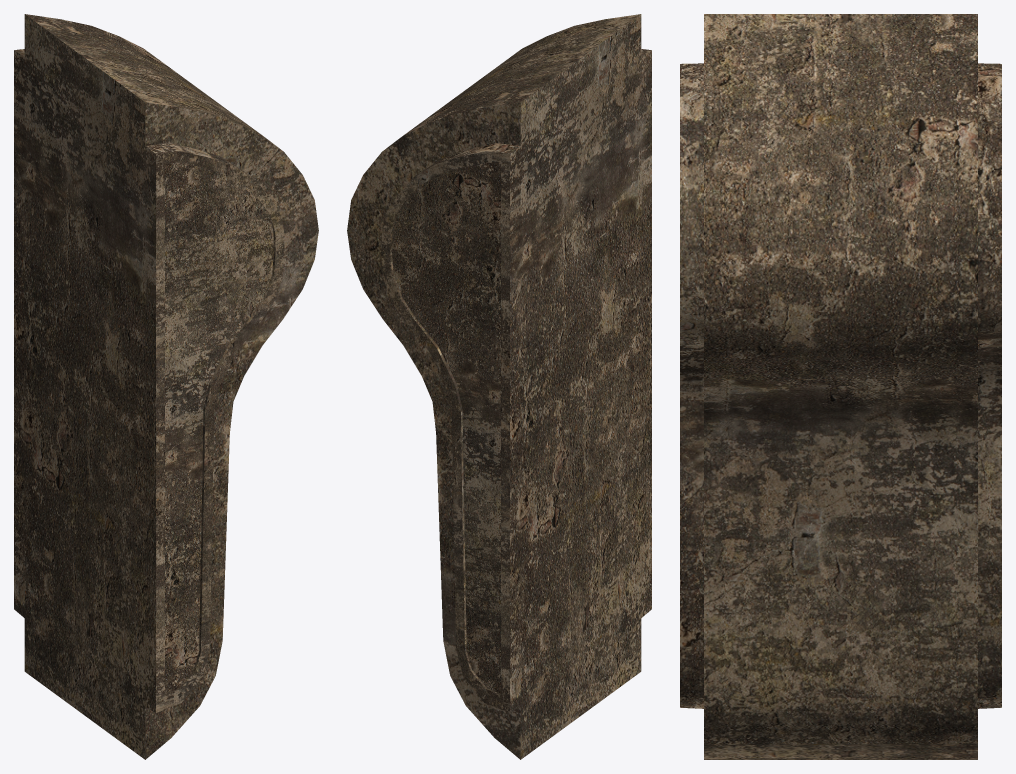
Rendered from materials_5_decoration_15.fbx.
The picture shows the model from 3 angles, left to right: view 1: azimuth 30°, elevation 25°; view 2: azimuth 150°, elevation 25°; view 3: azimuth 270°, elevation 25°; orthographic projection. The views are drawn at different scales.
Visible parts, largest first — view 1: materials_5_decoration_15; view 2: materials_5_decoration_15; view 3: materials_5_decoration_15.
Boxes of the visible parts, x1=… form: materials_5_decoration_15: x1=14, y1=14, x2=318, y2=759; materials_5_decoration_15: x1=347, y1=14, x2=651, y2=759; materials_5_decoration_15: x1=680, y1=14, x2=1001, y2=759.
Size of the model in its own units: 15.35 by 55.58 by 21.74.
